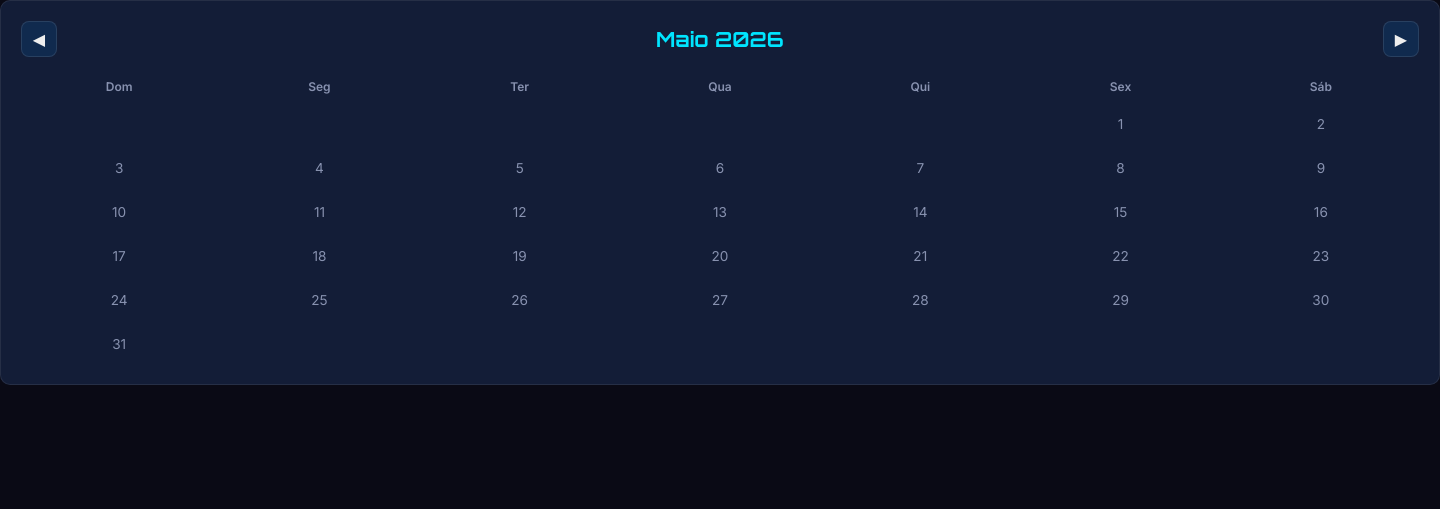
Test: QuestCalendar — clicking an empty day › toggles day panel off when clicking the same day again
Click the text "1" at (1121,124), box [1118,116,1123,132]
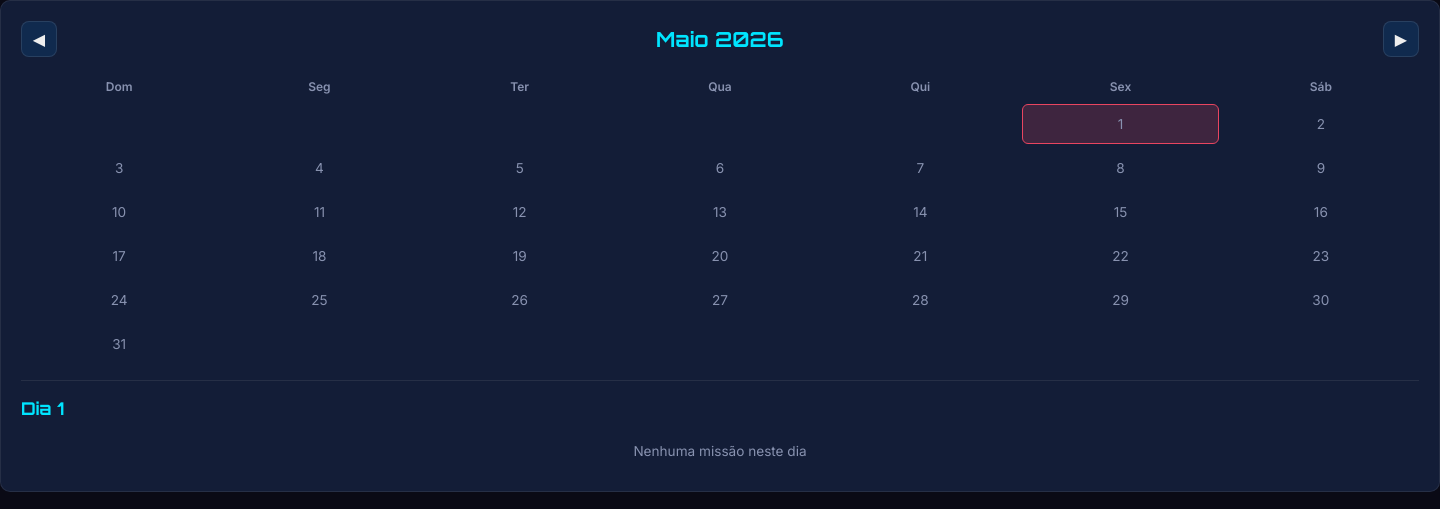
Expected: the heading "Dia 1" is shown, [21,397,64,419]
Click the text "1" at (1121,124), box [1022,104,1219,144]
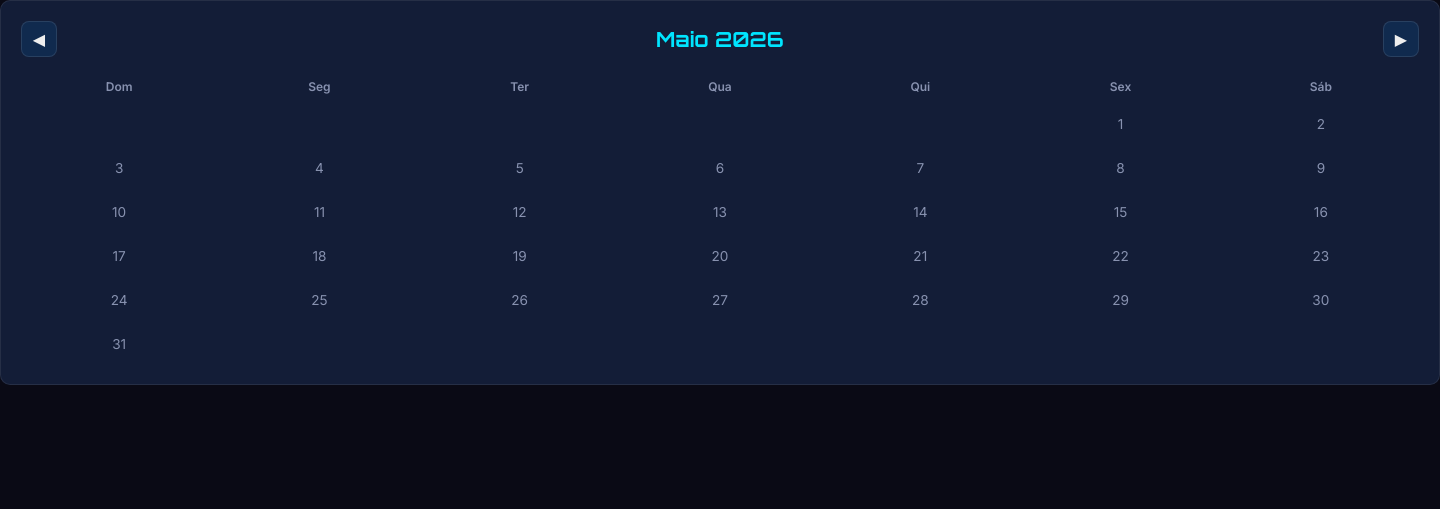
Expected: the heading "Dia 1" is gone
